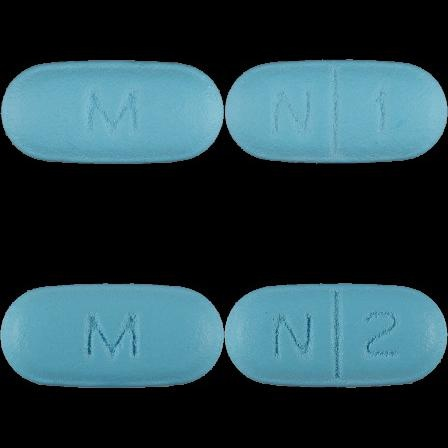0378-7001: (0, 0, 224, 224)
